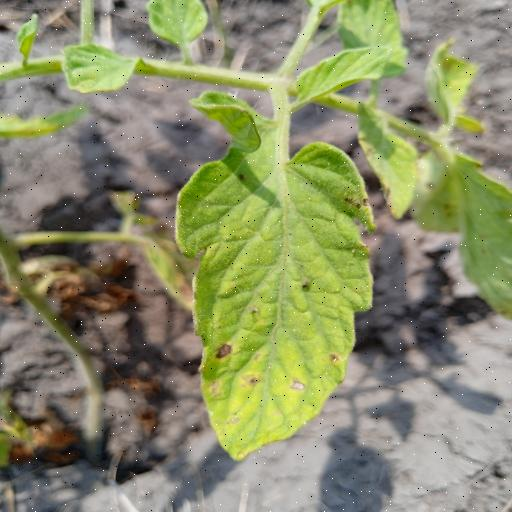Tomato_Brown_Spots: (163, 142, 386, 463)
